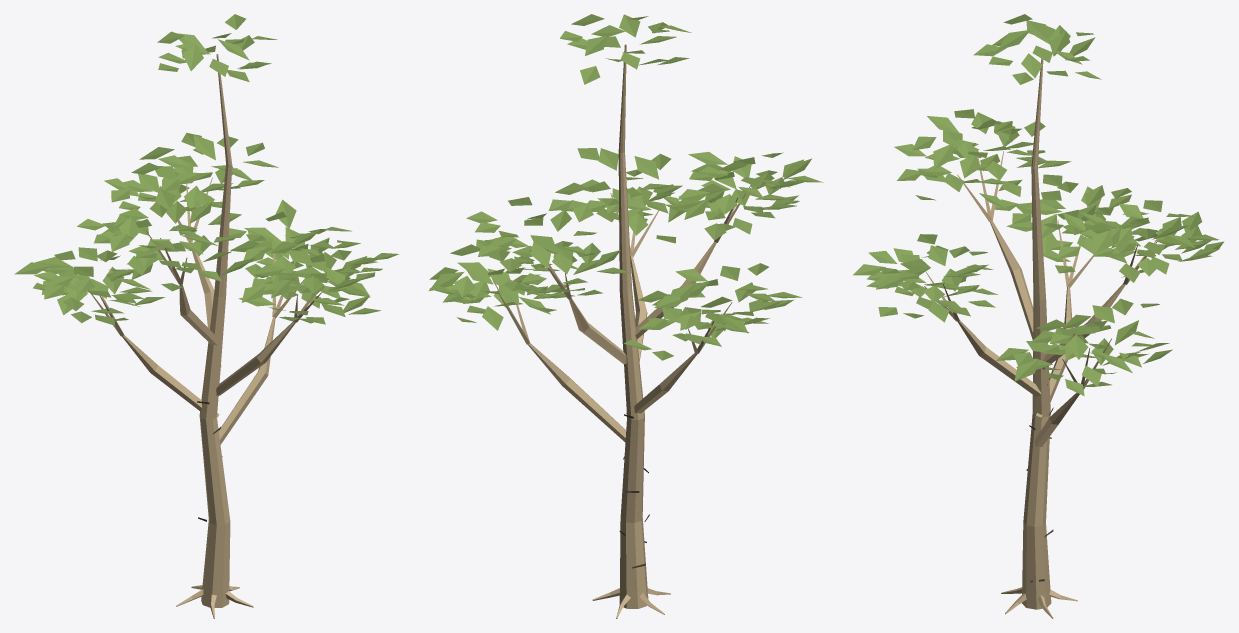
The model's file is birch-sapling.glb.
3 views of the same model, side by side, from view 1: azimuth 30°, elevation 25°; view 2: azimuth 150°, elevation 25°; view 3: azimuth 270°, elevation 25° (orthographic). The views are drawn at different scales.
Parts seen in each view (by area): view 1: understory_birch-sapling_LOD0; view 2: understory_birch-sapling_LOD0; view 3: understory_birch-sapling_LOD0.
Boxes of the visible parts, left/top/right/bottom form: understory_birch-sapling_LOD0: left=14, top=14, right=398, bottom=618; understory_birch-sapling_LOD0: left=429, top=14, right=823, bottom=618; understory_birch-sapling_LOD0: left=853, top=14, right=1224, bottom=618.
Size of the model in its own units: 1.55 by 2.49 by 1.46.
